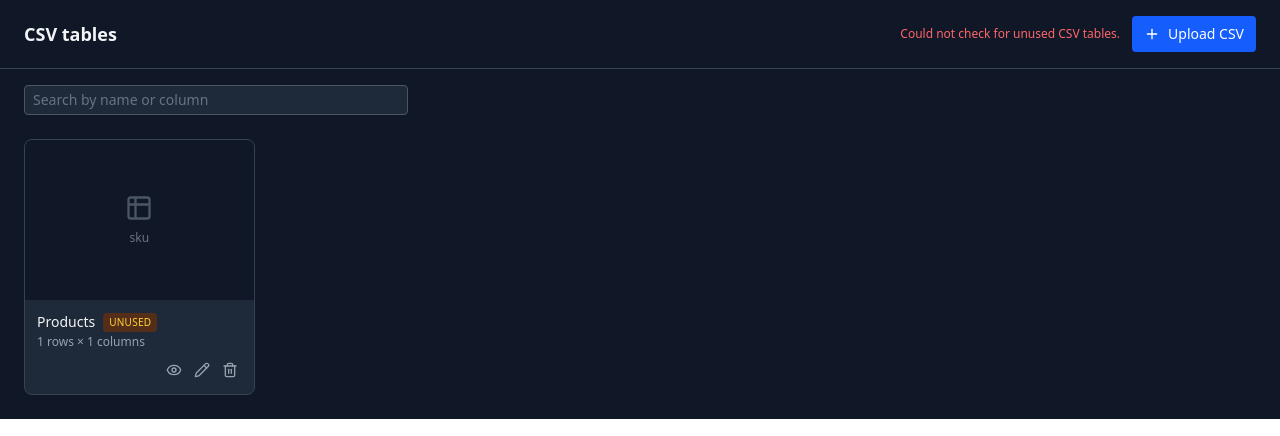
Scenario: CsvSection › deletes a referenced table when the user overrides the in-use warning (P2)
The width and height of the screenshot is (1280, 436).
Check: the text "Products" is shown, box [37,312,95,332]
Click the button named "Delete" at (230, 370), box [218,358,242,382]
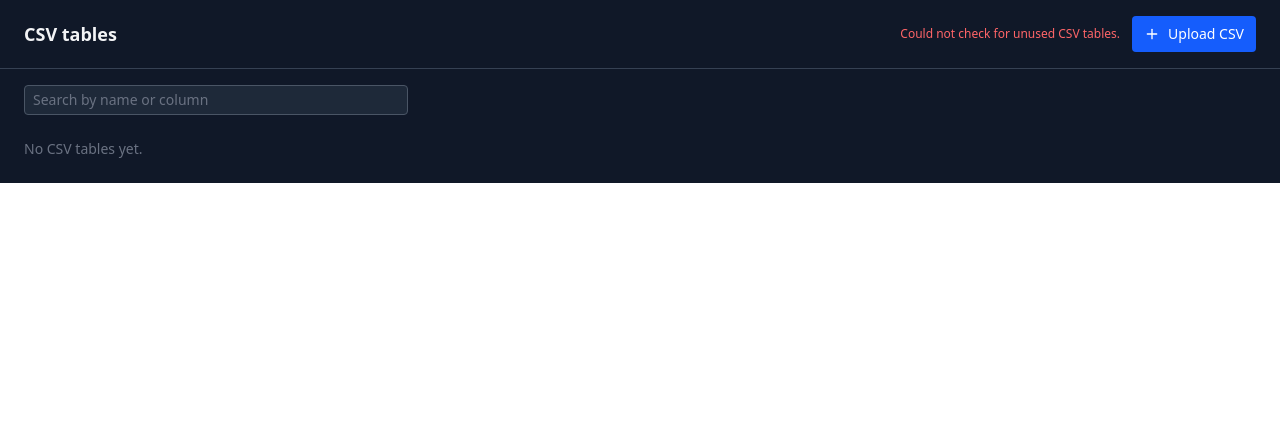
Check: the text "Products" is gone
